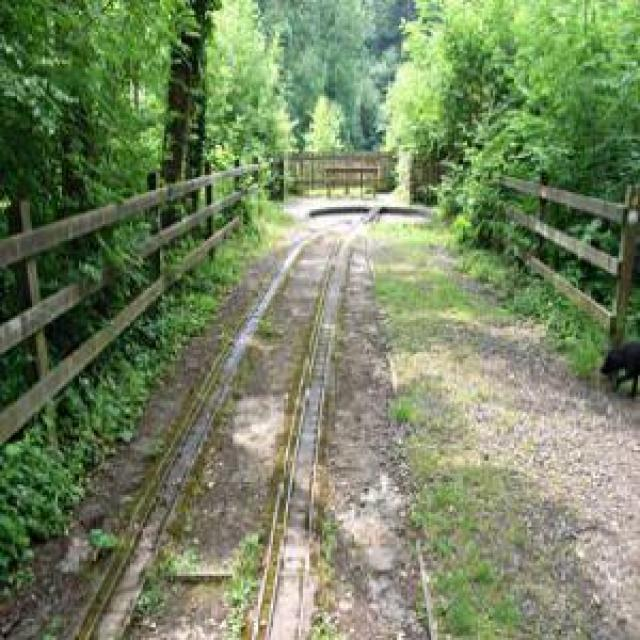rail: (41, 205, 389, 640)
